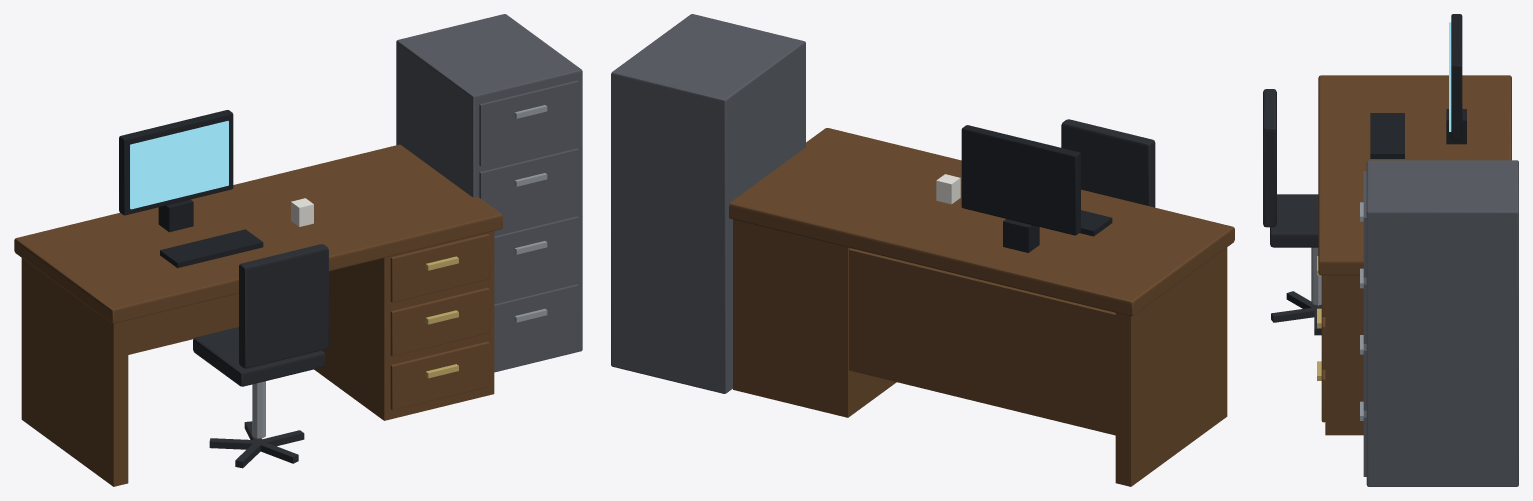
The model's file is office-desk.glb.
The picture shows the model from 3 angles, left to right: view 1: azimuth 30°, elevation 25°; view 2: azimuth 150°, elevation 25°; view 3: azimuth 270°, elevation 25°; orthographic projection. The views are drawn at different scales.
Visible parts, largest first — view 1: part-wood, part-cabinet-steel, part-chair, part-screen, part-plastic, part-steel, part-brass; view 2: part-wood, part-cabinet-steel, part-plastic, part-chair; view 3: part-cabinet-steel, part-wood, part-chair, part-plastic, part-steel, part-screen.
Part boxes in pixels (bbox=[...]): part-wood: bbox=[14, 144, 502, 486]; part-cabinet-steel: bbox=[396, 14, 582, 372]; part-chair: bbox=[193, 244, 328, 468]; part-screen: bbox=[130, 121, 228, 209]; part-plastic: bbox=[119, 110, 263, 268]; part-steel: bbox=[252, 105, 547, 438]; part-brass: bbox=[425, 256, 458, 378]; part-wood: bbox=[729, 128, 1234, 486]; part-cabinet-steel: bbox=[611, 14, 805, 393]; part-plastic: bbox=[961, 125, 1112, 252]; part-chair: bbox=[1061, 119, 1155, 207]; part-cabinet-steel: bbox=[1363, 160, 1518, 486]; part-wood: bbox=[1318, 75, 1511, 435]; part-chair: bbox=[1263, 89, 1321, 335]; part-plastic: bbox=[1370, 14, 1466, 158]; part-steel: bbox=[1311, 202, 1363, 420]; part-screen: bbox=[1449, 22, 1451, 131].
Bounding box in the file's own units: 81 × 44 × 37.
